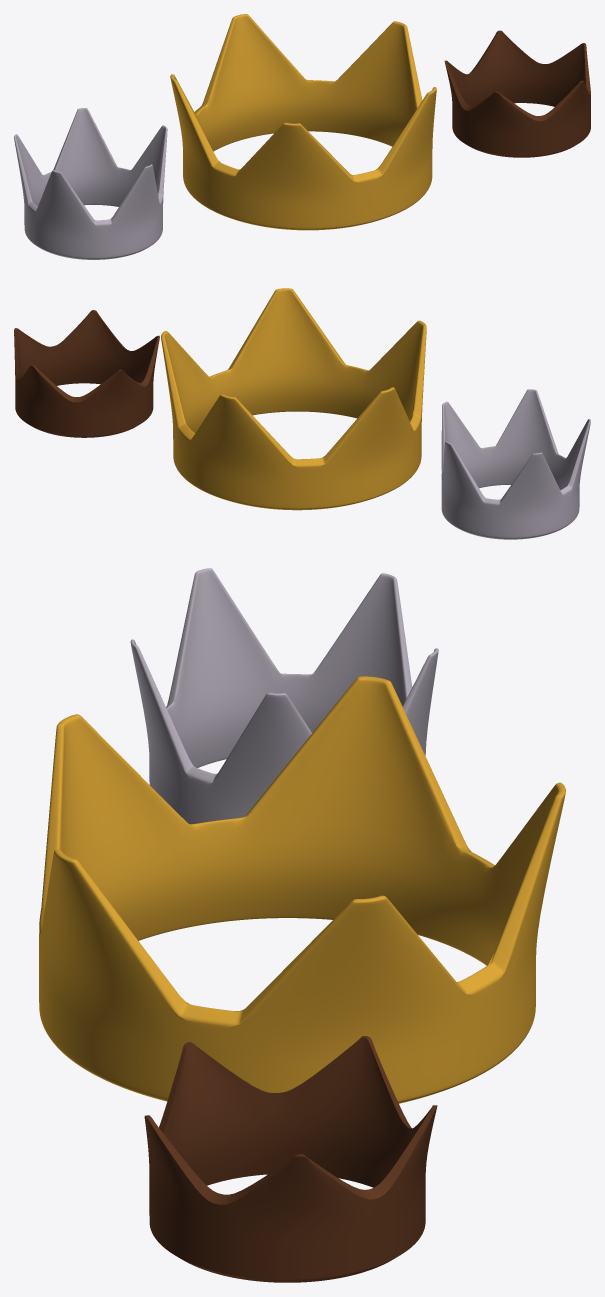
File: crown.fbx
The picture shows the model from 3 angles, top to bottom: view 1: azimuth 30°, elevation 25°; view 2: azimuth 150°, elevation 25°; view 3: azimuth 270°, elevation 25°; orthographic projection. The views are drawn at different scales.
Visible parts, largest first — view 1: Gold Crown, Silver_crown, Bronze_crown; view 2: Gold Crown, Silver_crown, Bronze_crown; view 3: Gold Crown, Bronze_crown, Silver_crown.
Part boxes in pixels (x1,y1,x2,y2): Gold Crown: [170, 14, 436, 230]; Silver_crown: [14, 108, 167, 259]; Bronze_crown: [444, 30, 590, 157]; Gold Crown: [161, 288, 426, 510]; Silver_crown: [441, 389, 590, 539]; Bronze_crown: [14, 310, 159, 437]; Gold Crown: [39, 676, 565, 1103]; Bronze_crown: [144, 1036, 437, 1282]; Silver_crown: [130, 568, 438, 824].
Size of the model in its own units: 519 by 104 by 214.
